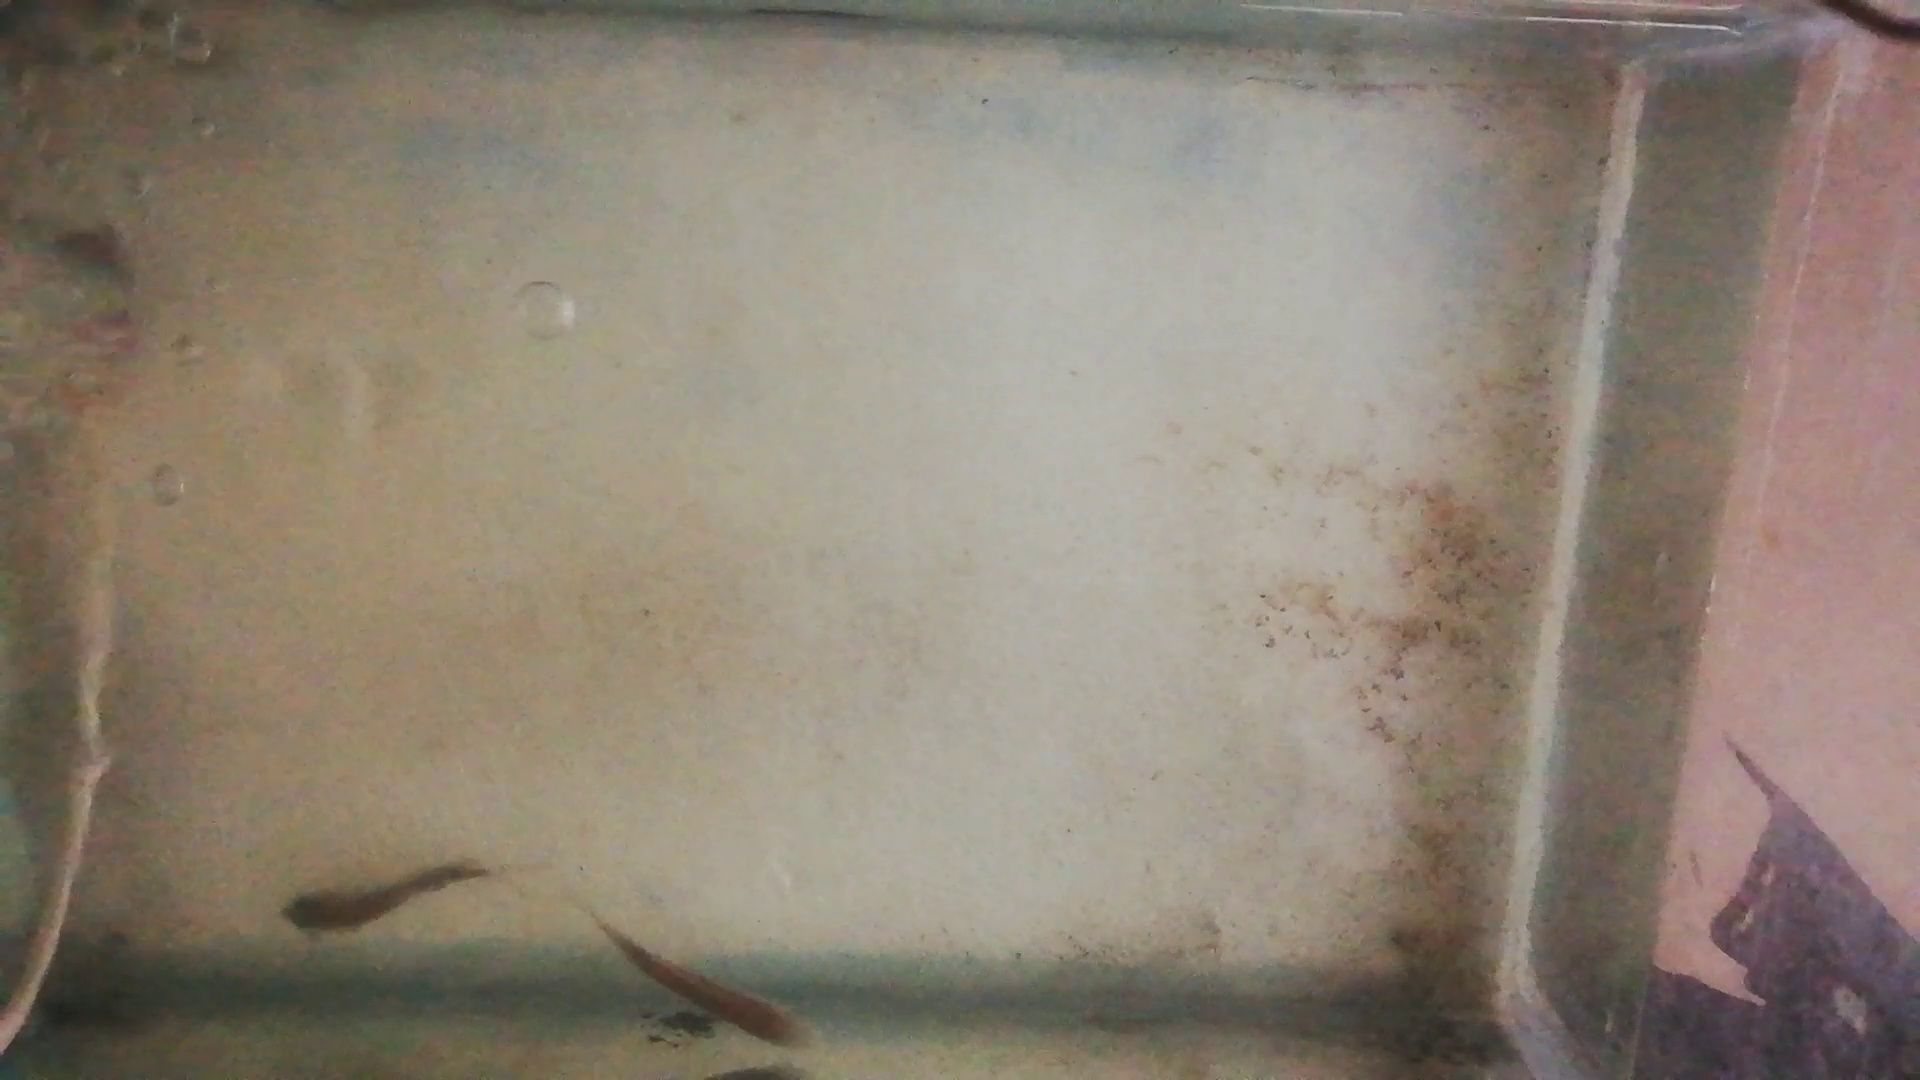fish: (597, 918, 815, 1054), (285, 862, 487, 934)
